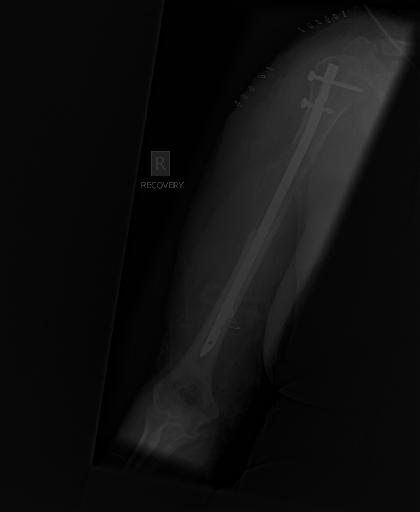implant: (298, 62, 363, 122), (199, 290, 245, 356)
